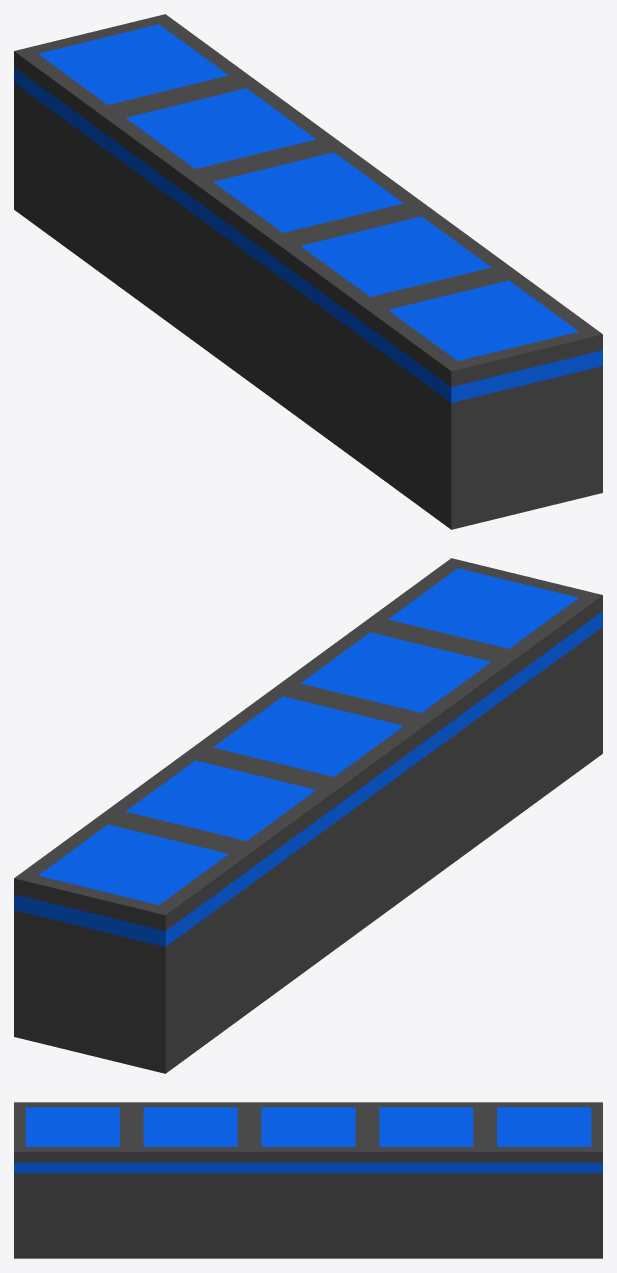
The model's file is blocklarge.fbx.
The picture shows the model from 3 angles, top to bottom: view 1: azimuth 30°, elevation 25°; view 2: azimuth 150°, elevation 25°; view 3: azimuth 270°, elevation 25°; orthographic projection. The views are drawn at different scales.
Parts seen in each view (by area): view 1: BlockLarge; view 2: BlockLarge; view 3: BlockLarge.
Boxes of the visible parts, box(x1,y1,x2,y2) form: BlockLarge: box(14, 14, 602, 529); BlockLarge: box(14, 558, 602, 1073); BlockLarge: box(14, 1102, 602, 1258).
Bounding box in the file's own units: 100 × 100 × 500.
